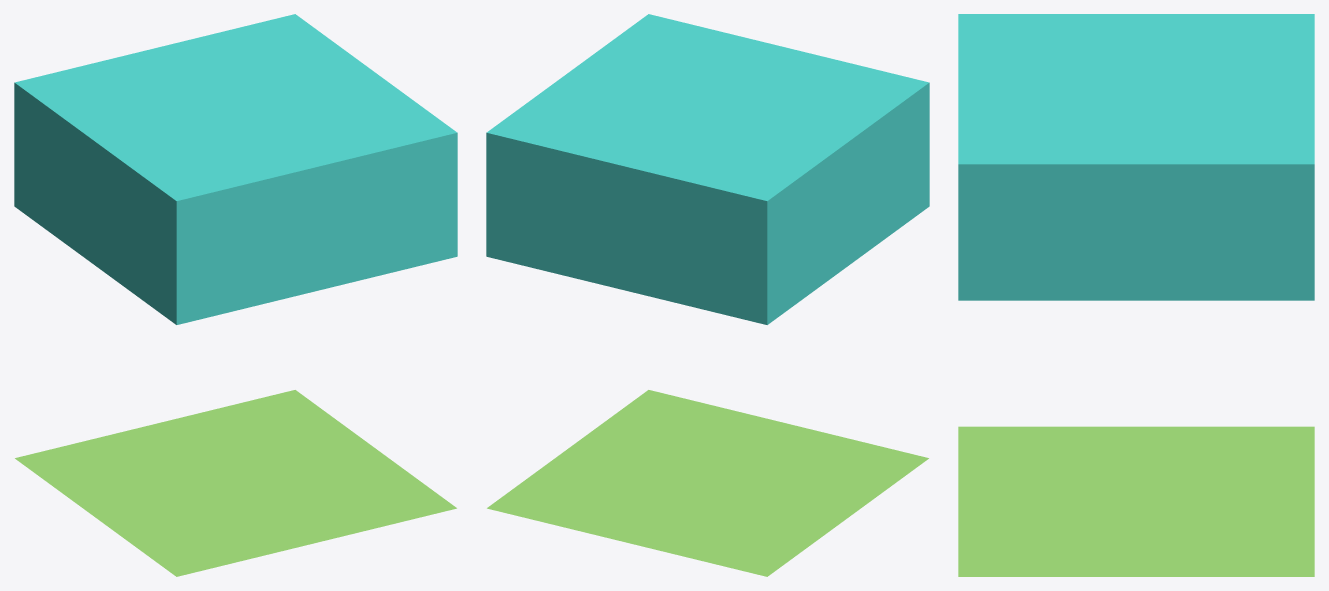
File: HabitacionSola.fbx
3 views of the same model, side by side, from view 1: azimuth 30°, elevation 25°; view 2: azimuth 150°, elevation 25°; view 3: azimuth 270°, elevation 25° (orthographic). The views are drawn at different scales.
Visible parts, largest first — view 1: Habitacion.002, Habitacion; view 2: Habitacion.002, Habitacion; view 3: Habitacion.002, Habitacion.
Boxes of the visible parts, x1,y1,x2,y2 form: Habitacion.002: (14, 14, 457, 324); Habitacion: (15, 390, 456, 576); Habitacion.002: (486, 14, 929, 324); Habitacion: (487, 390, 928, 576); Habitacion.002: (958, 14, 1314, 300); Habitacion: (958, 426, 1314, 576).
Bounding box in the file's own units: 117 × 149 × 117.
